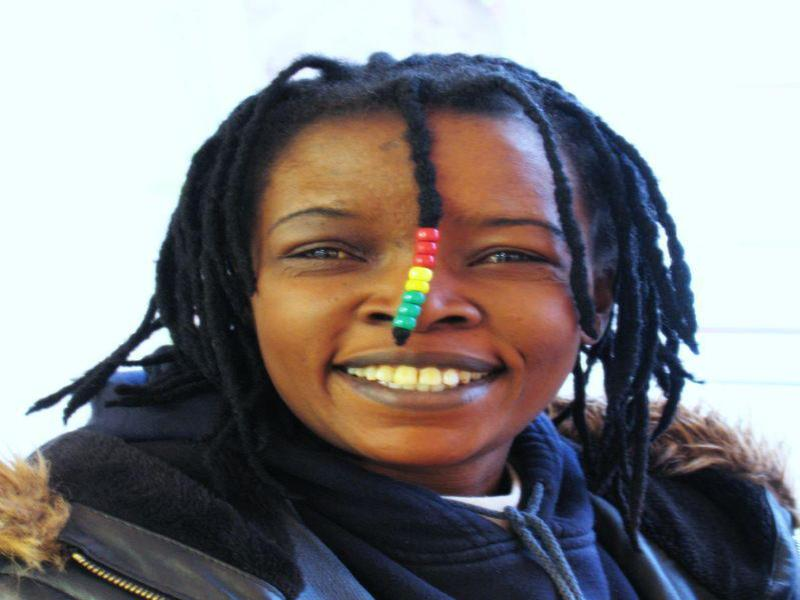person: (11, 47, 793, 600)
